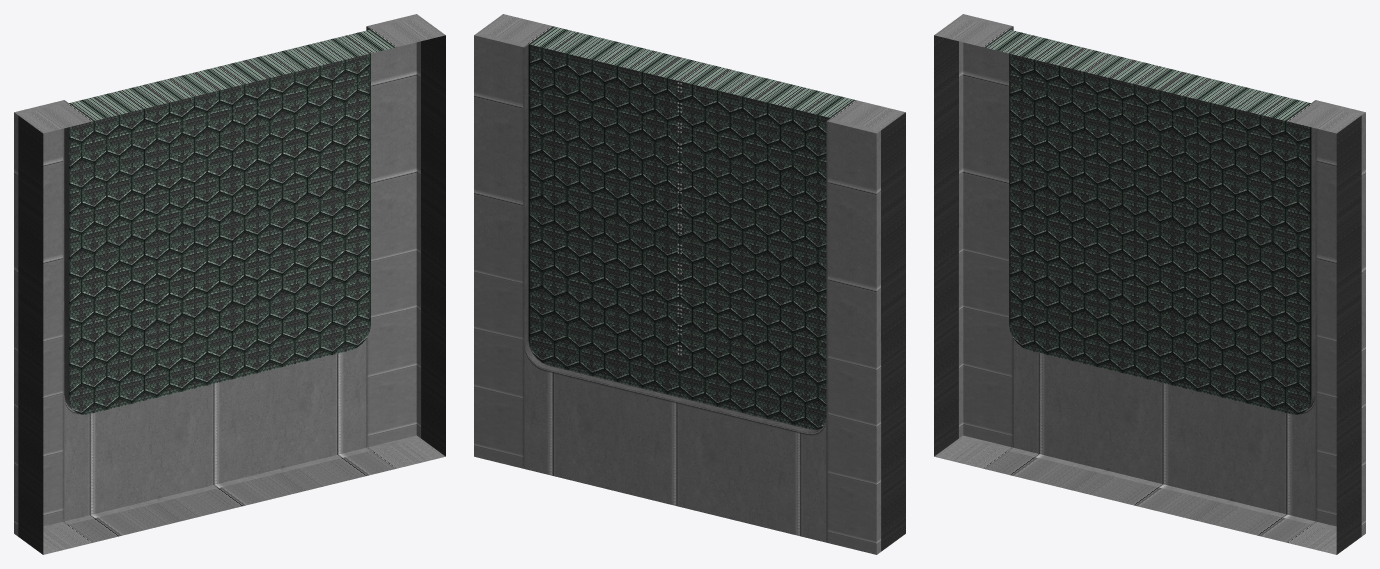
File: TC_road_deadend.fbx
The picture shows the model from 3 angles, left to right: view 1: azimuth 30°, elevation 25°; view 2: azimuth 150°, elevation 25°; view 3: azimuth 330°, elevation 25°; orthographic projection.
Visible parts, largest first — view 1: TC_road_deadend; view 2: TC_road_deadend; view 3: TC_road_deadend.
Part boxes in pixels (x1,y1,x2,y2): TC_road_deadend: (14, 14, 445, 554); TC_road_deadend: (474, 14, 905, 554); TC_road_deadend: (934, 14, 1365, 554).
Bounding box in the file's own units: 8 × 8 × 1.
